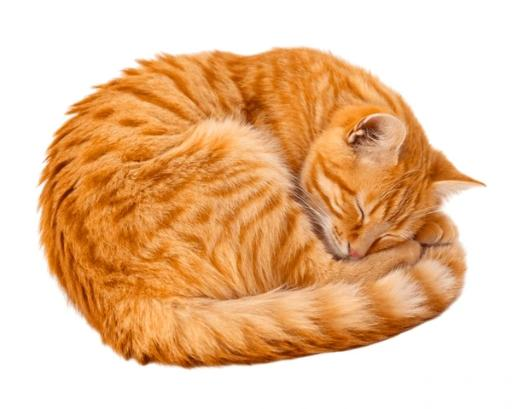cat_sleeping: (38, 48, 482, 366)
